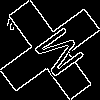M: (25, 25, 86, 86)
